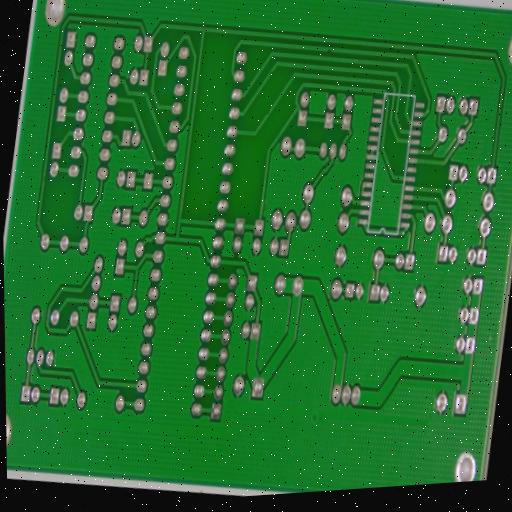mouse_bite: (325, 43, 335, 58), (264, 105, 273, 120), (268, 66, 276, 80)
